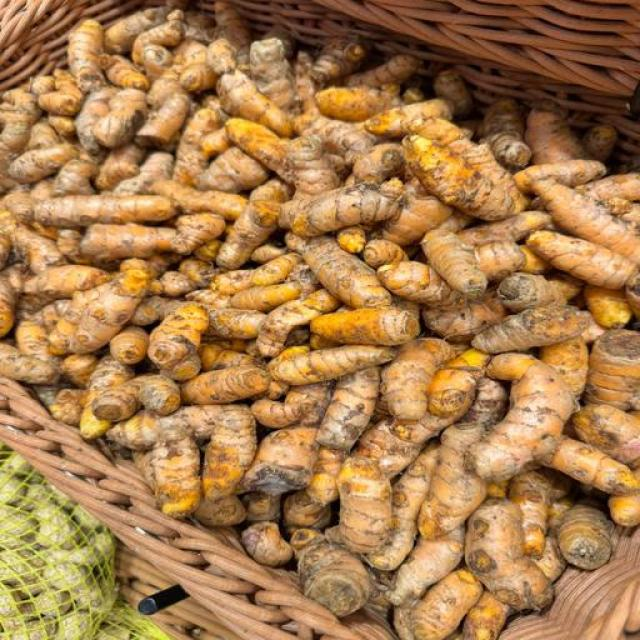organic: (1, 1, 640, 640), (9, 399, 384, 639), (0, 448, 117, 639)
